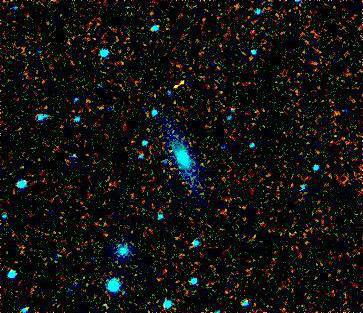star: (165, 66, 195, 96)
